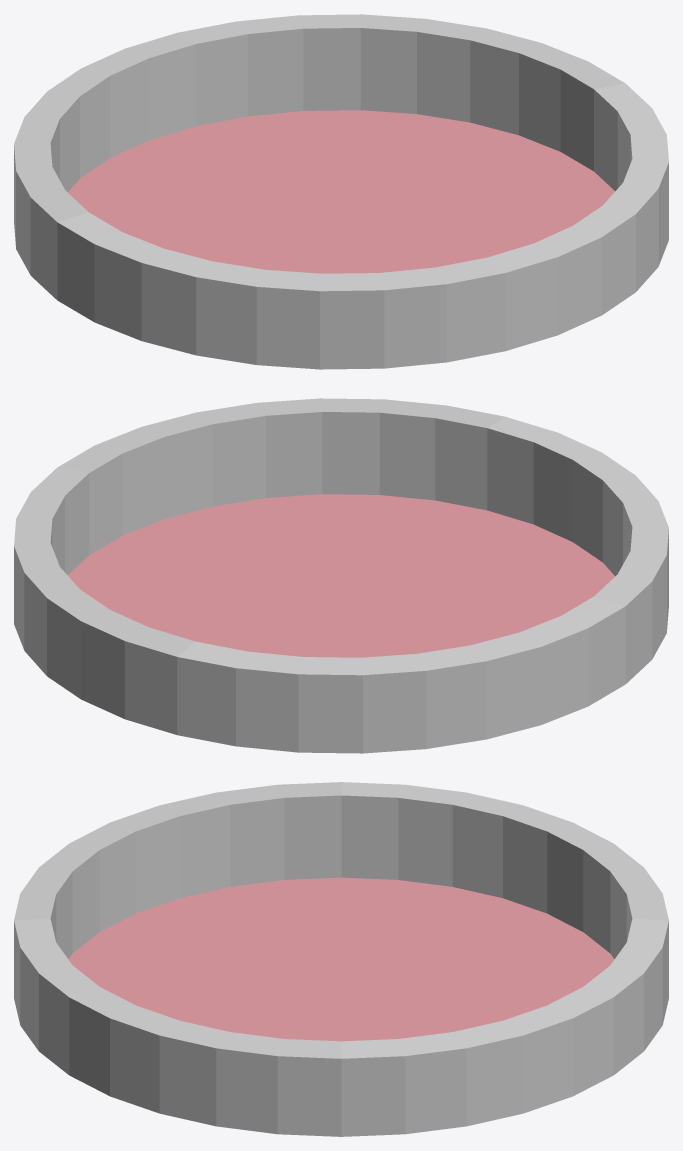
3 views of the same model, one above another, from view 1: azimuth 30°, elevation 25°; view 2: azimuth 150°, elevation 25°; view 3: azimuth 270°, elevation 25° (orthographic).
Visible parts, largest first — view 1: Cylinder; view 2: Cylinder; view 3: Cylinder.
Boxes of the visible parts, x1,y1,x2,y2 form: Cylinder: (14, 14, 668, 369); Cylinder: (14, 398, 668, 753); Cylinder: (14, 782, 668, 1136).
Bounding box in the file's own units: 491 × 67.9 × 491.
